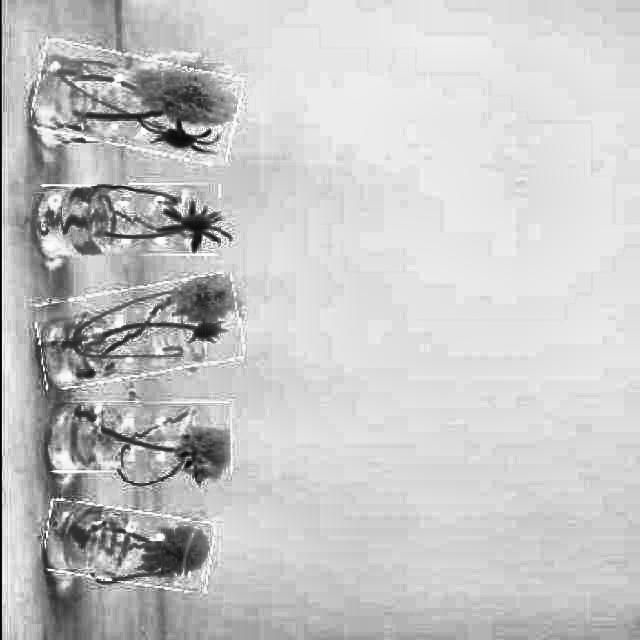plants: (31, 49, 237, 158), (34, 282, 240, 384), (43, 504, 211, 588), (36, 183, 218, 257), (48, 401, 230, 474)
